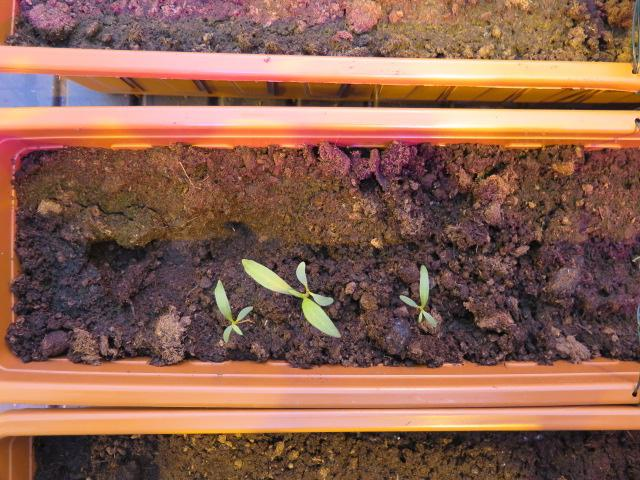weed: (395, 257, 436, 329)
